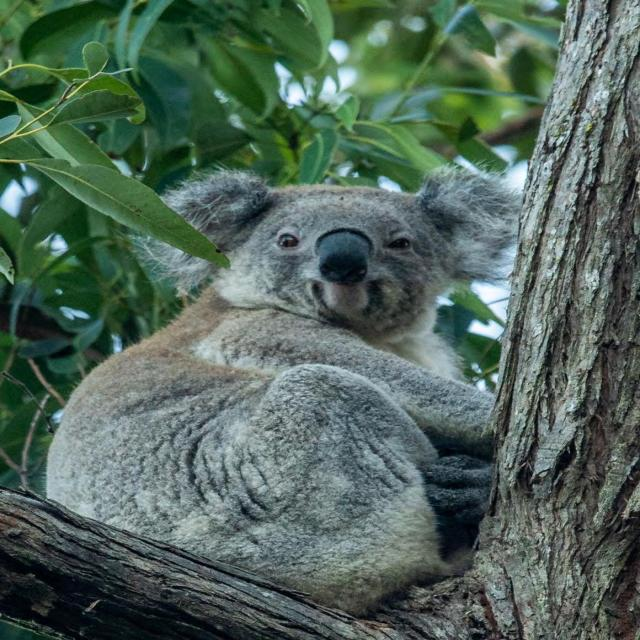Koala: (52, 143, 537, 602)
